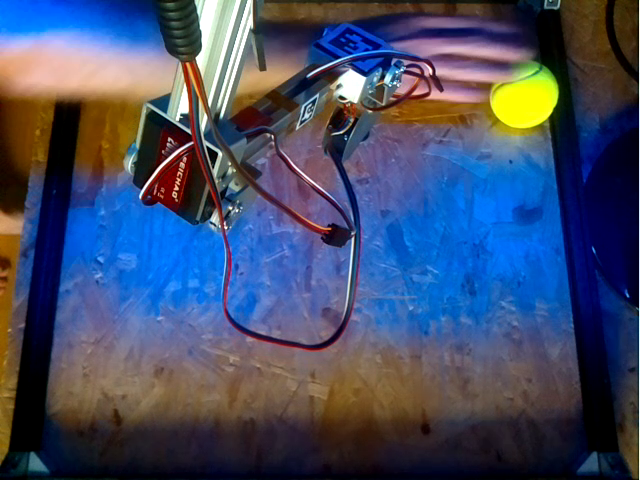tennis_ball: (490, 61, 558, 128)
